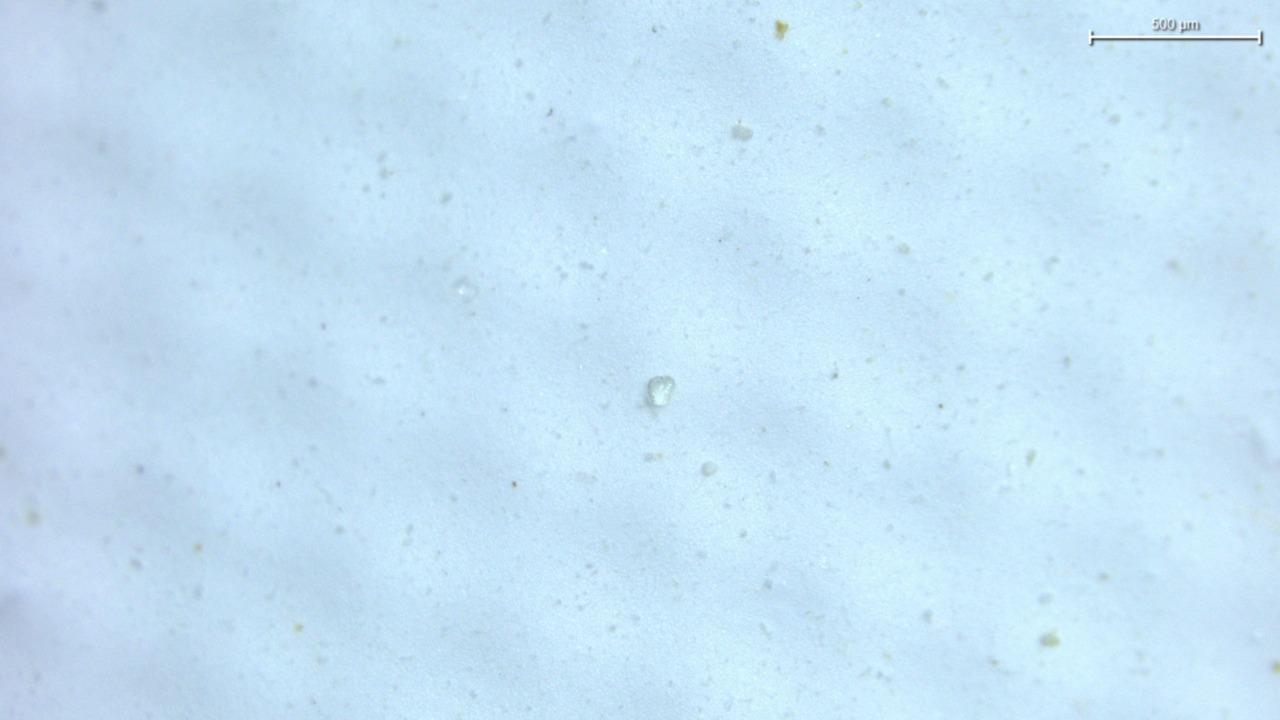microplastic_fragment: (647, 376, 675, 406)
